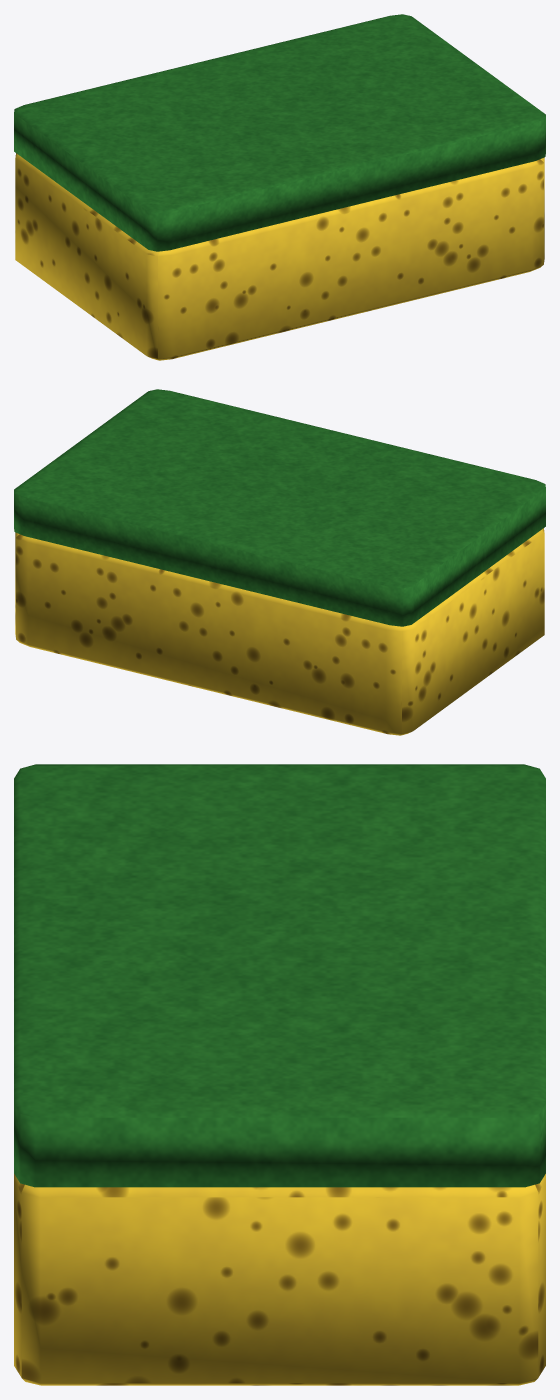
Rendered from kitchen_sponge.glb.
3 views of the same model, one above another, from view 1: azimuth 30°, elevation 25°; view 2: azimuth 150°, elevation 25°; view 3: azimuth 270°, elevation 25° (orthographic). The views are drawn at different scales.
Visible parts, largest first — view 1: Cube.001, Cube; view 2: Cube.001, Cube; view 3: Cube.001, Cube.
Boxes of the visible parts, x1,y1,x2,y2 form: Cube.001: [14, 14, 545, 251]; Cube: [15, 153, 544, 360]; Cube.001: [14, 389, 545, 626]; Cube: [15, 528, 544, 735]; Cube.001: [14, 764, 545, 1187]; Cube: [14, 1174, 545, 1385].
Bounding box in the file's own units: 2.2 × 0.81 × 1.4.
Materials: 2 (2 with a texture image).
